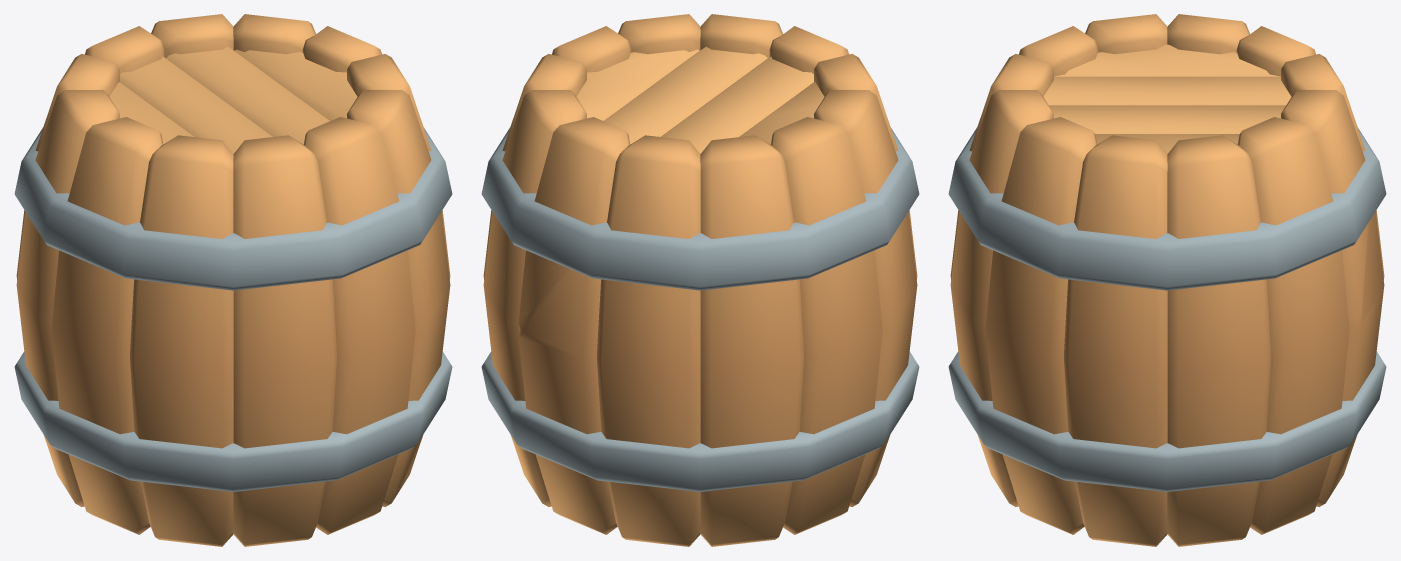
File: platform_kit001.fbx
3 views of the same model, side by side, from view 1: azimuth 30°, elevation 25°; view 2: azimuth 150°, elevation 25°; view 3: azimuth 270°, elevation 25° (orthographic).
Parts seen in each view (by area): view 1: platform_kit001; view 2: platform_kit001; view 3: platform_kit001.
Part boxes in pixels (x1,y1,x2,y2): platform_kit001: (14,14,452,546); platform_kit001: (481,14,919,546); platform_kit001: (948,14,1386,546).
Bounding box in the file's own units: 123 × 121 × 123.
1 material, 1 textured.
